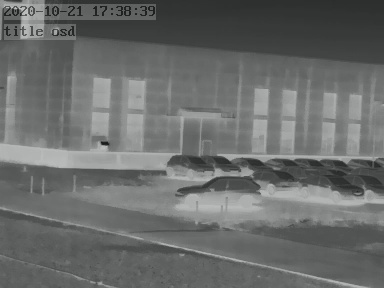vehicle: (171, 175, 264, 207), (302, 171, 364, 201), (163, 152, 212, 179), (253, 166, 303, 192), (201, 153, 241, 176), (350, 173, 383, 200), (231, 154, 269, 172), (260, 155, 294, 170), (347, 156, 380, 170), (317, 156, 348, 170), (296, 155, 326, 169)
